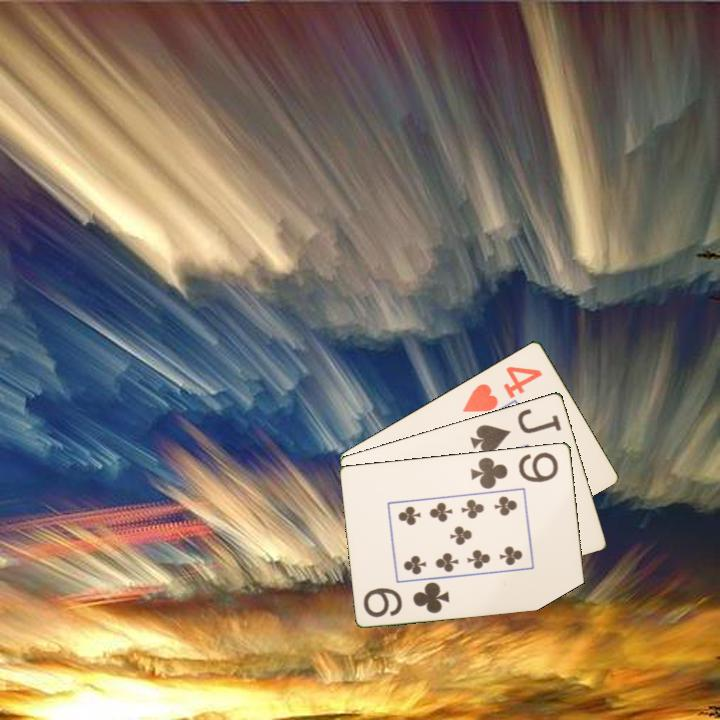4h: (459, 362, 545, 415)
9c: (467, 448, 561, 492), (360, 578, 452, 620)
Js: (467, 404, 564, 456)
